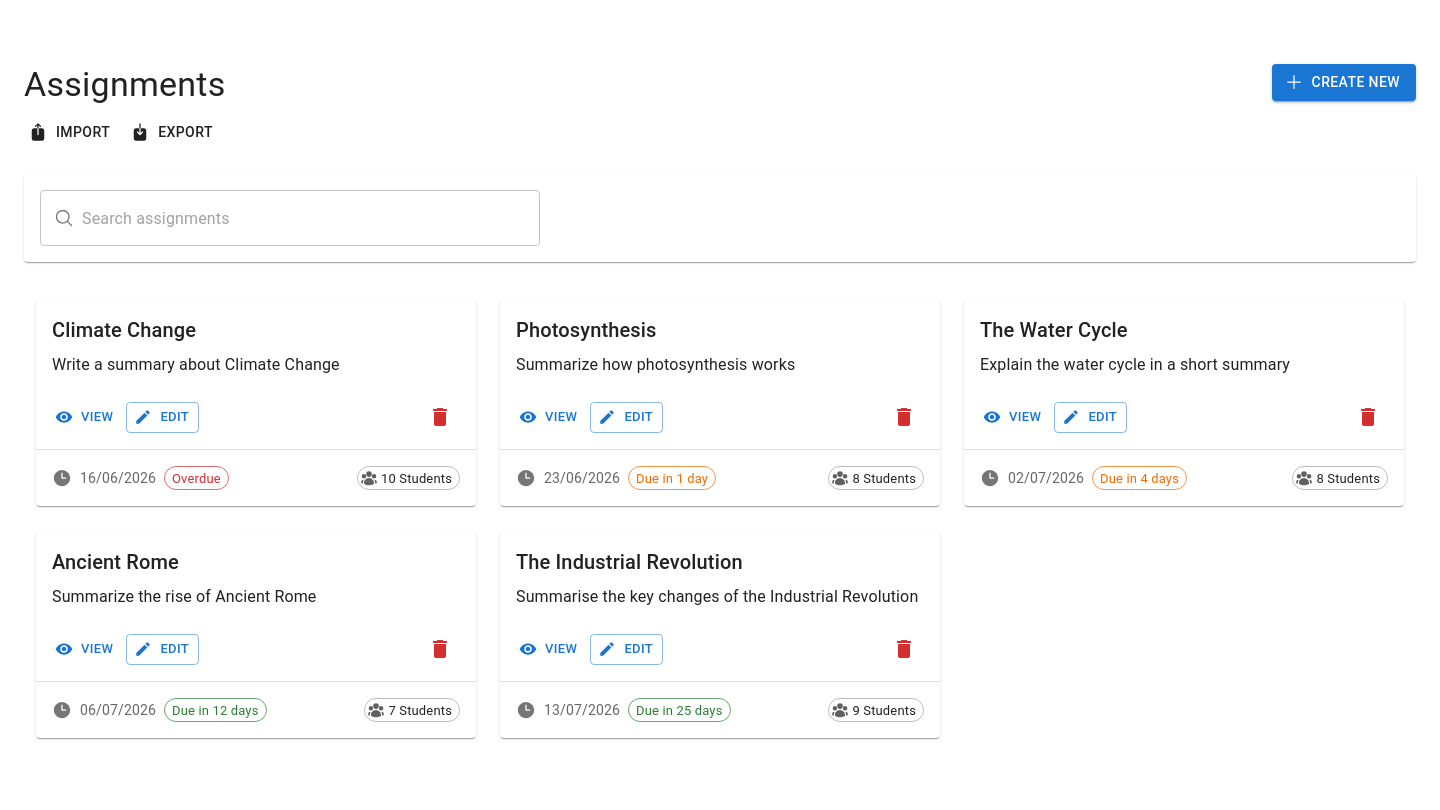
Scenario: the student count on an assignment card › starts a newly created assignment on the enrolled class, not on zero
The width and height of the screenshot is (1440, 810).
Expected: the link "Climate Change" is shown, left=52, top=318, right=196, bottom=342
Click the button "Create New".
click(1344, 82)  # box left=1272, top=64, right=1416, bottom=100
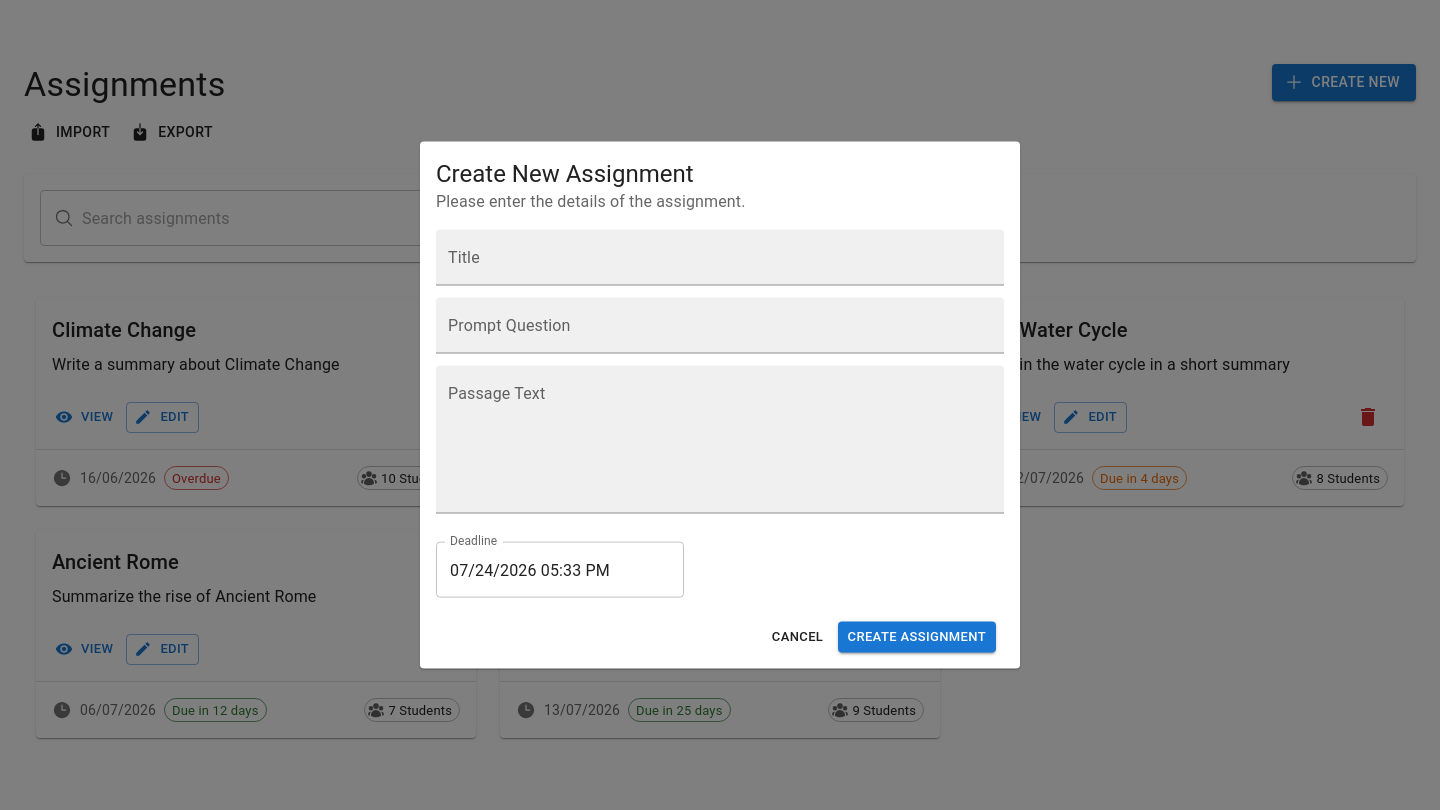
Type "Volcanoes" into the field labelled "Title".
click(720, 258); type("Volcanoes")  # box left=436, top=230, right=1004, bottom=286
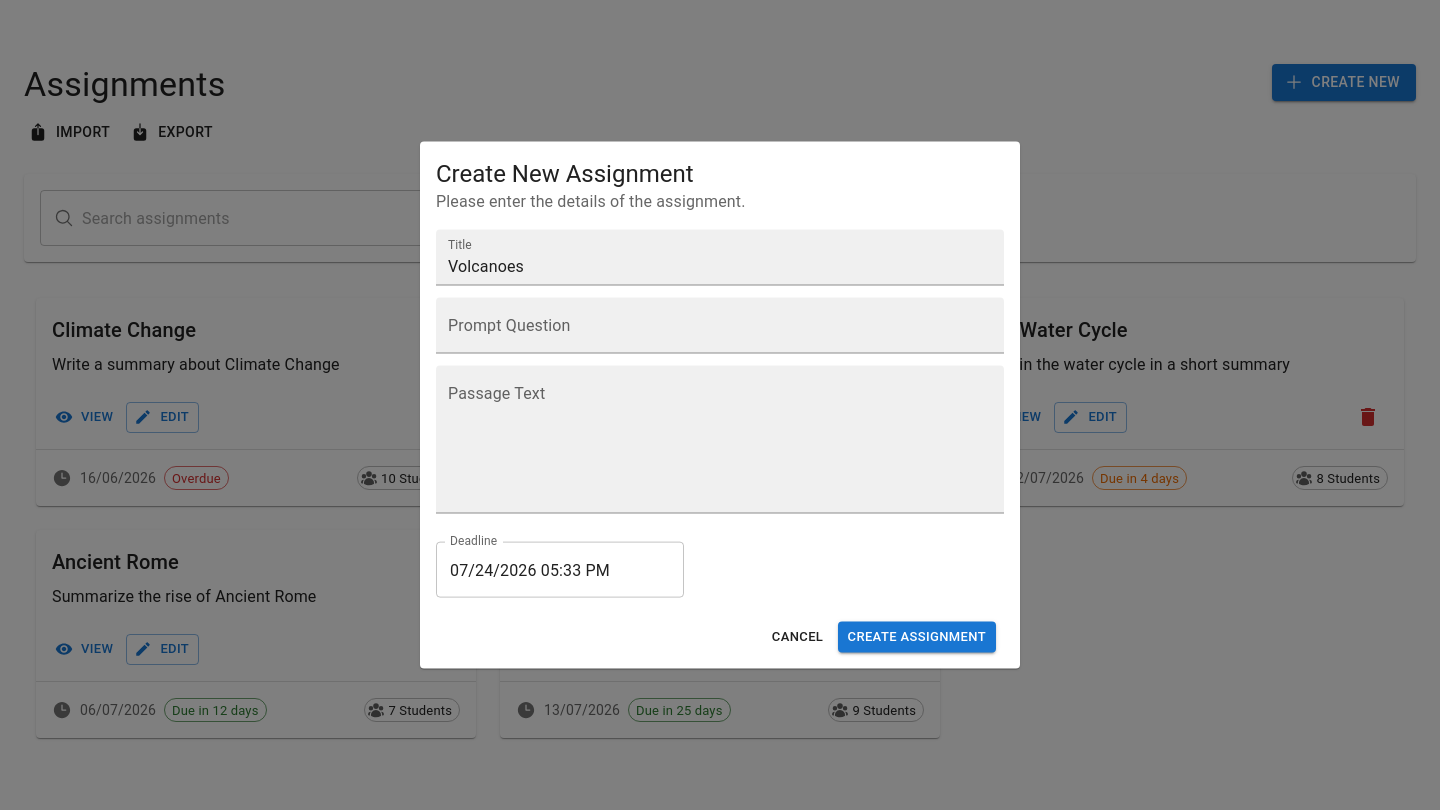
Type "How volcanoes form" into the field labelled "Prompt Question".
click(720, 326); type("How volcanoes form")  # box left=436, top=298, right=1004, bottom=354
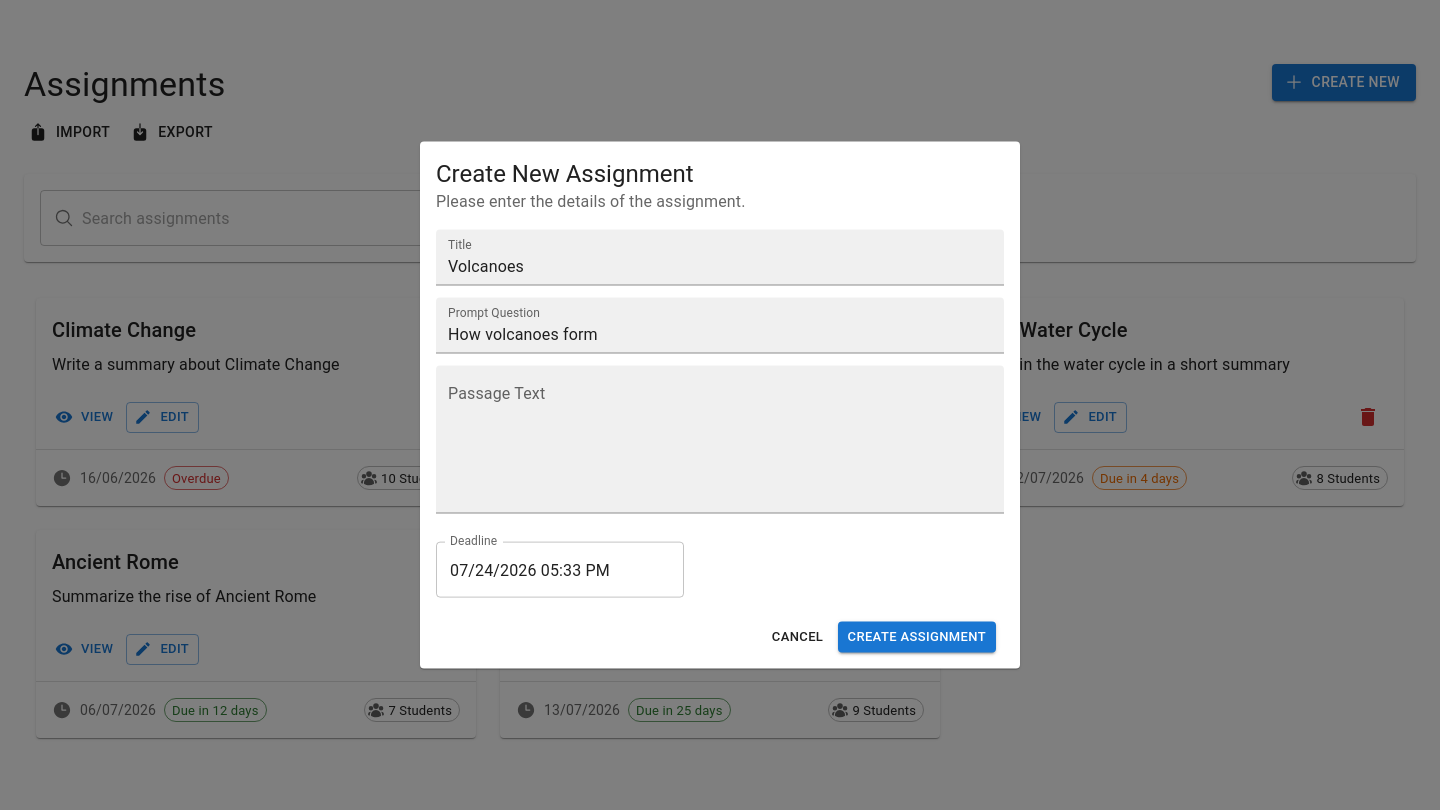
Click the button "Create Assignment".
click(917, 637)  # box left=838, top=622, right=996, bottom=652
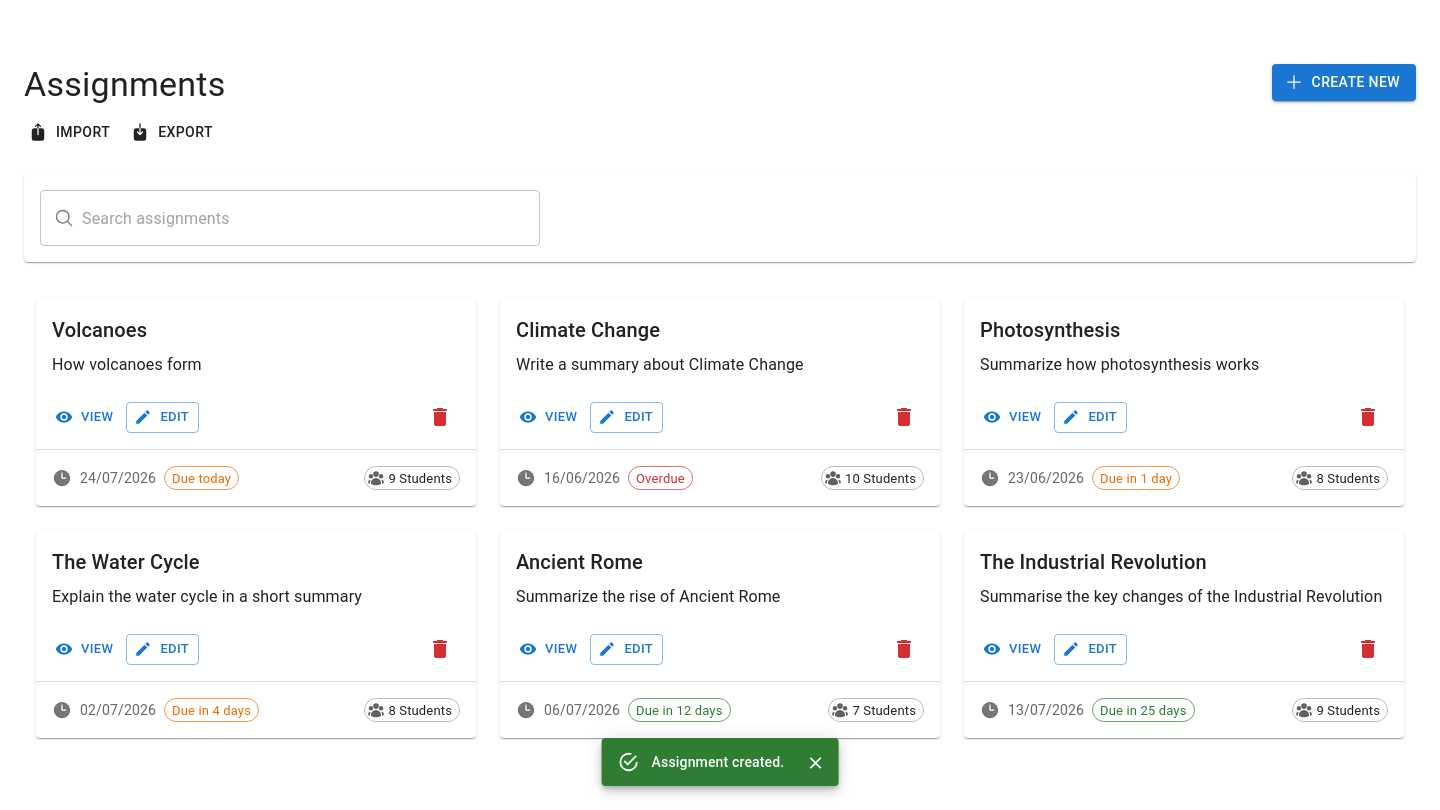
Result: the heading "Volcanoes" is shown at left=52, top=318, right=147, bottom=342
